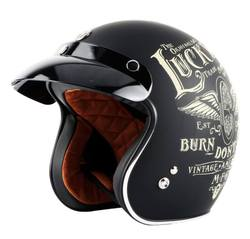with_helmet: (8, 16, 244, 226)
